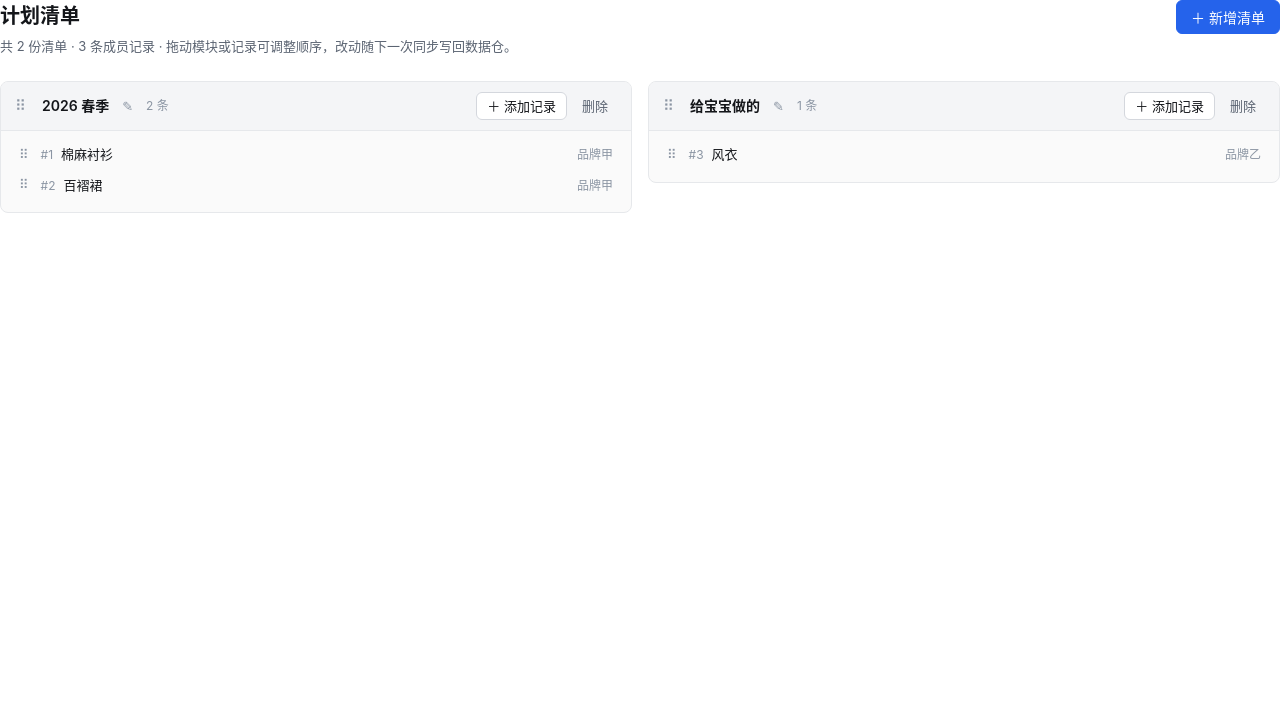
Test: v6.9 · 条目「加入其他清单」（迁移语义） › 右键 →「加入其他清单…」弹层：文案写明「加入目标并从当前移出」，候选排除已在清单
Right-click the list item with test id "iw-plan-card-row-p1-1" at (87, 154), box left=19, top=146, right=613, bottom=162
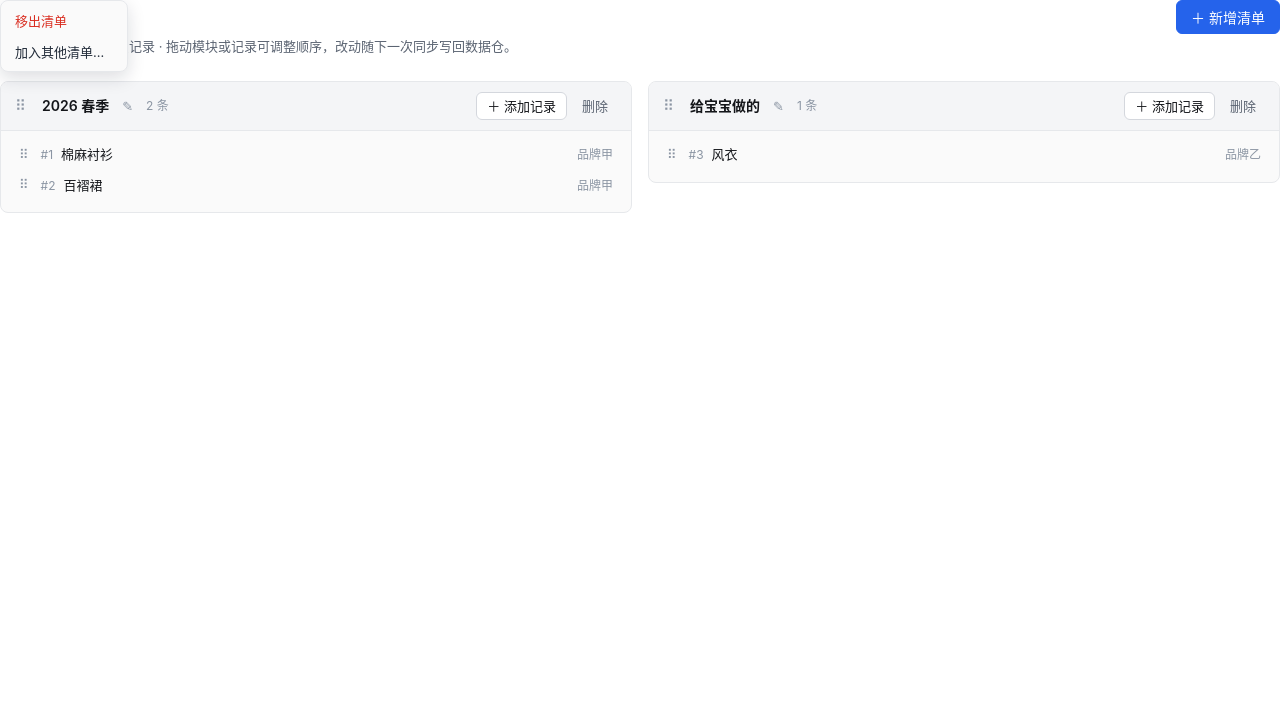
Click the menu item with test id "iw-plan-ctx-move". click: (64, 52)
box: left=5, top=36, right=123, bottom=67
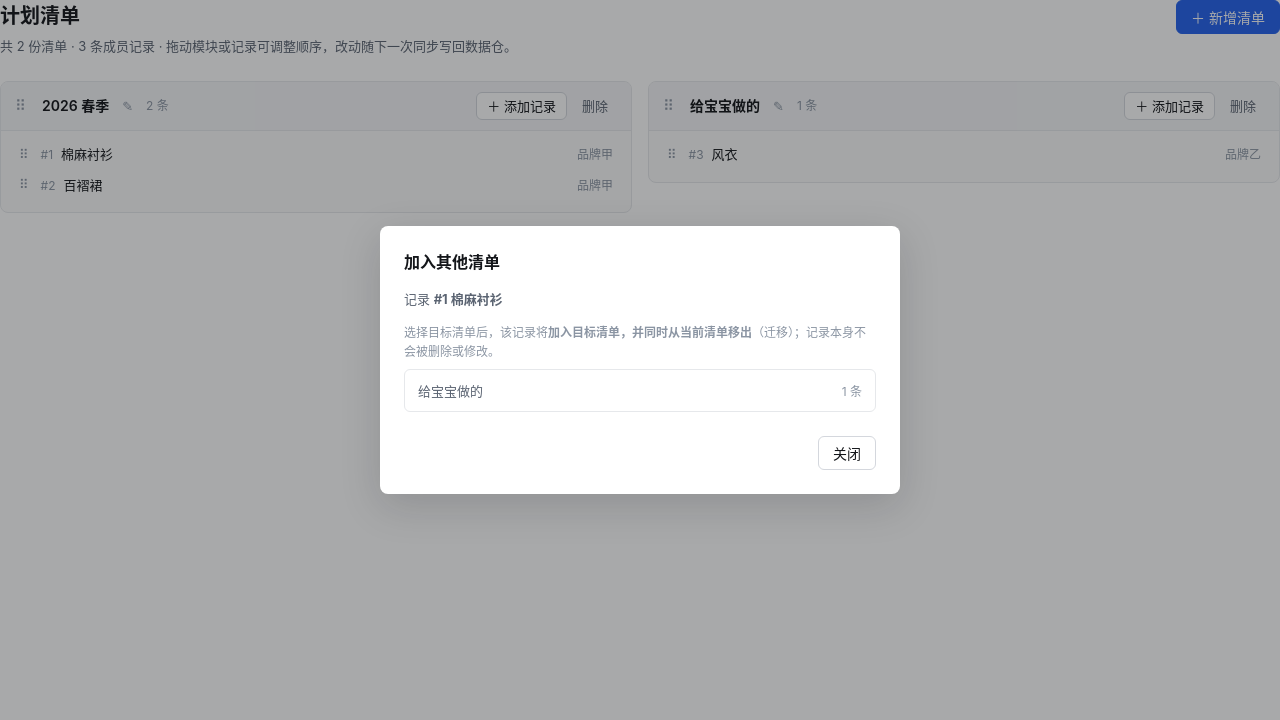
Expected: the dialog shows "加入目标清单，并同时从当前清单移出", left=548, top=324, right=752, bottom=340
Expected: the dialog shows "不会被删除或修改", left=404, top=324, right=866, bottom=359
Expected: the button with test id "iw-plan-move-option-p2" is shown, left=411, top=376, right=869, bottom=405
